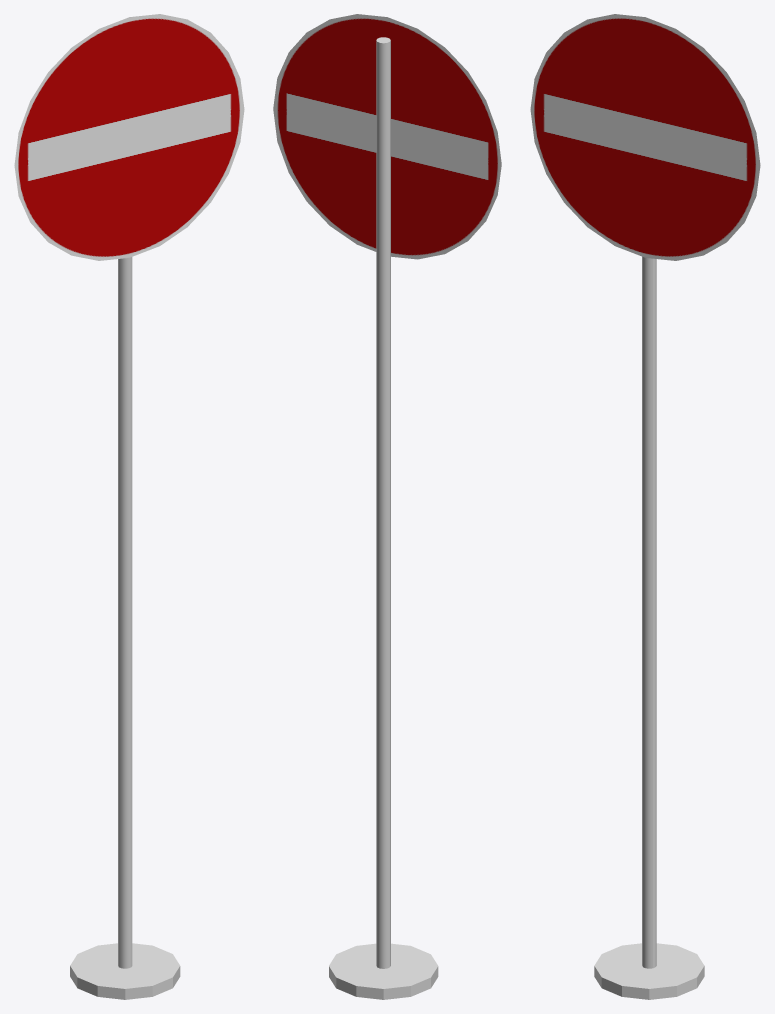
The model's file is stopsign.FBX.
The picture shows the model from 3 angles, left to right: view 1: azimuth 30°, elevation 25°; view 2: azimuth 150°, elevation 25°; view 3: azimuth 330°, elevation 25°; orthographic projection.
Parts seen in each view (by area): view 1: Circle001, Cylinder019; view 2: Circle001, Cylinder019; view 3: Circle001, Cylinder019.
Part boxes in pixels (x1,y1,x2,y2): Circle001: (14,14,244,260); Cylinder019: (70,257,180,999); Circle001: (273,14,501,259); Cylinder019: (329,37,438,999); Circle001: (530,14,760,260); Cylinder019: (594,256,704,999).
Bounding box in the file's own units: 72.94 × 292 × 30.25.
1 material, 1 textured.
